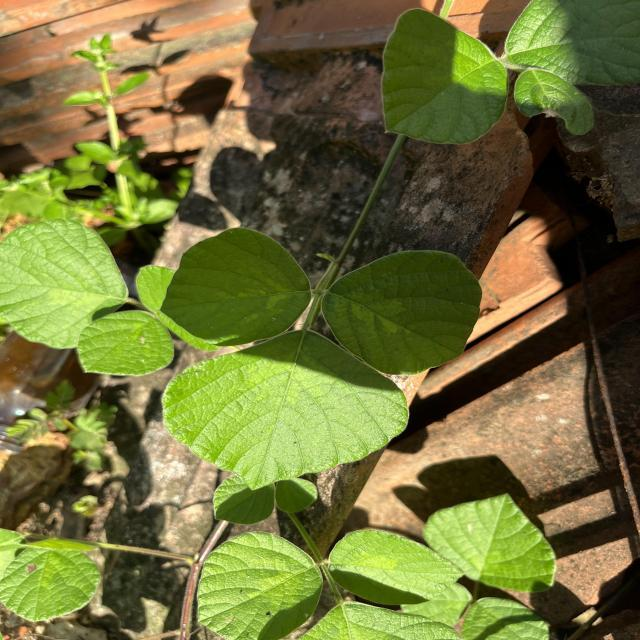Pseudarthria viscida: (158, 224, 486, 492)
